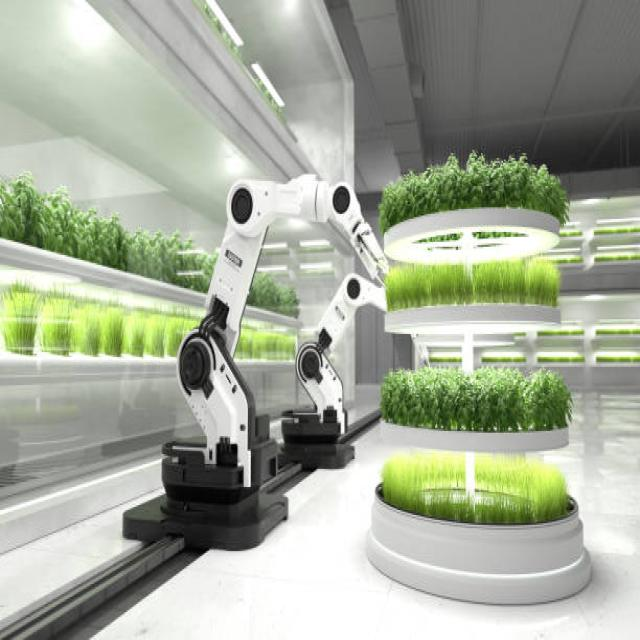Robotic-arm: (156, 168, 383, 546), (294, 271, 388, 469)
